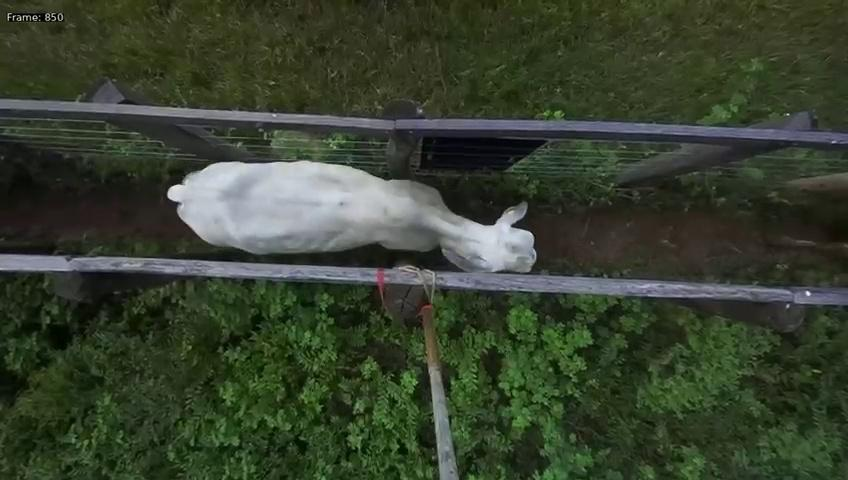cattle: (165, 126, 538, 270)
